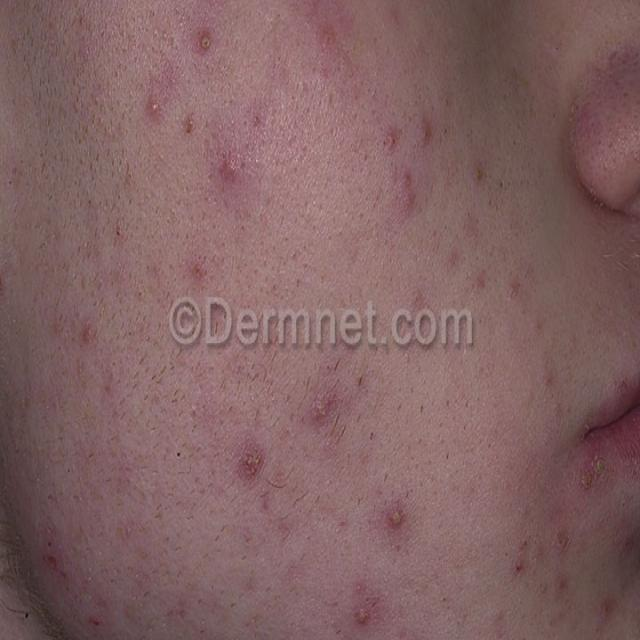acne: (136, 28, 431, 640), (455, 165, 581, 435), (39, 297, 128, 626), (490, 492, 626, 636)
